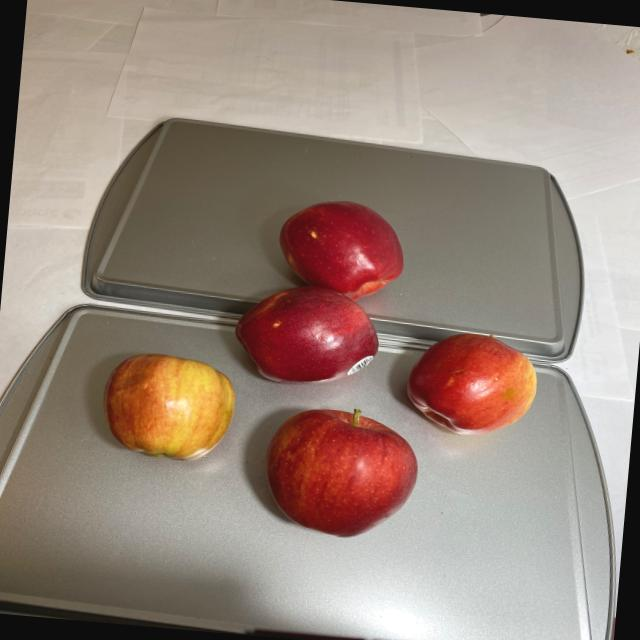apple: (92, 184, 556, 554)
